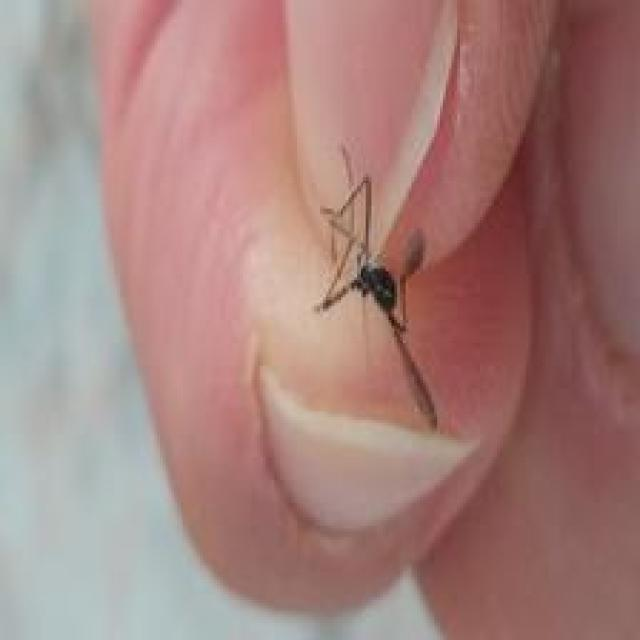Aedes albopictus: (313, 146, 441, 431)
